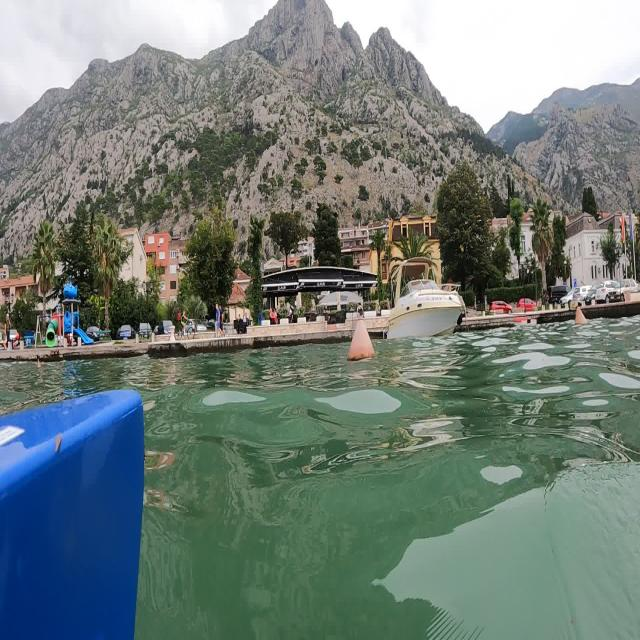boat: (380, 252, 479, 350)
buoy: (338, 302, 379, 372)
